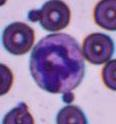N: (29, 32, 86, 94)
